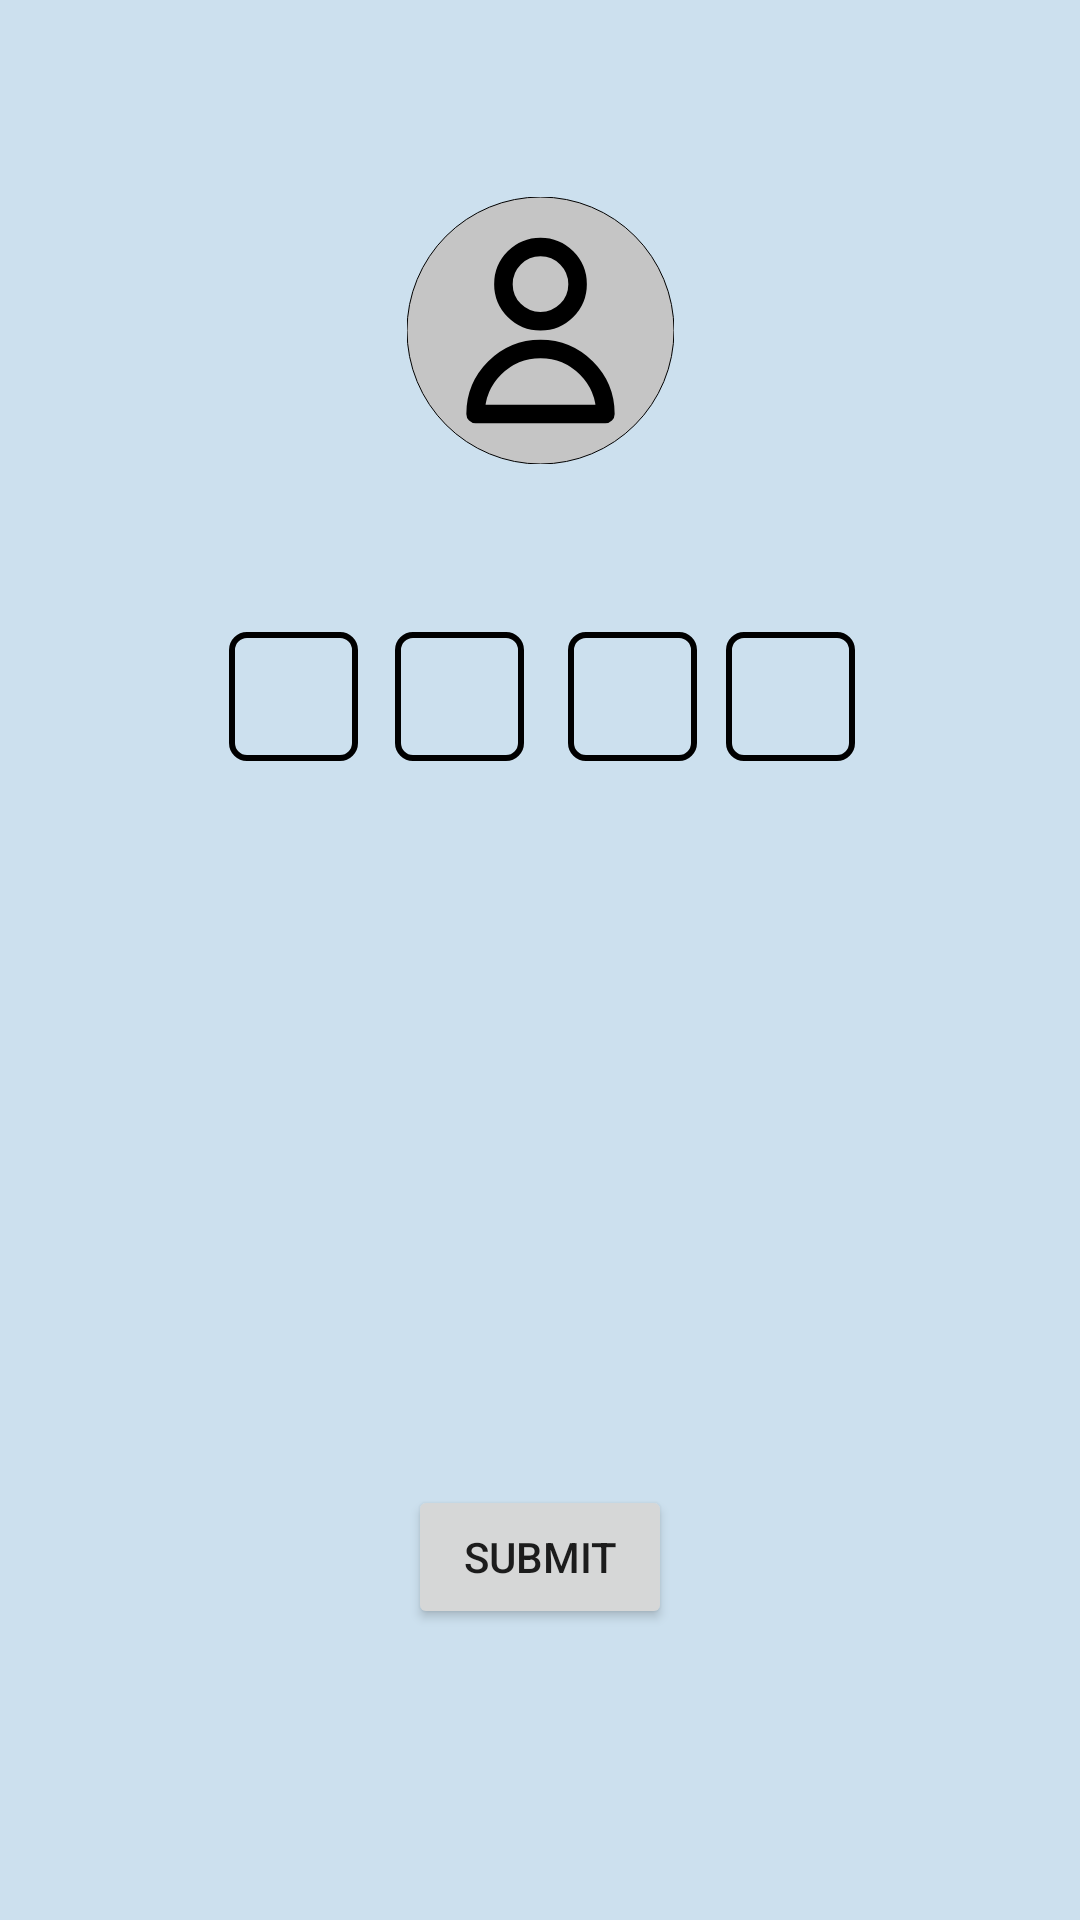

Where to tap for icons on this 1080 × 1920 app screen, as point (x, y):
userlogo: point (540, 330)
